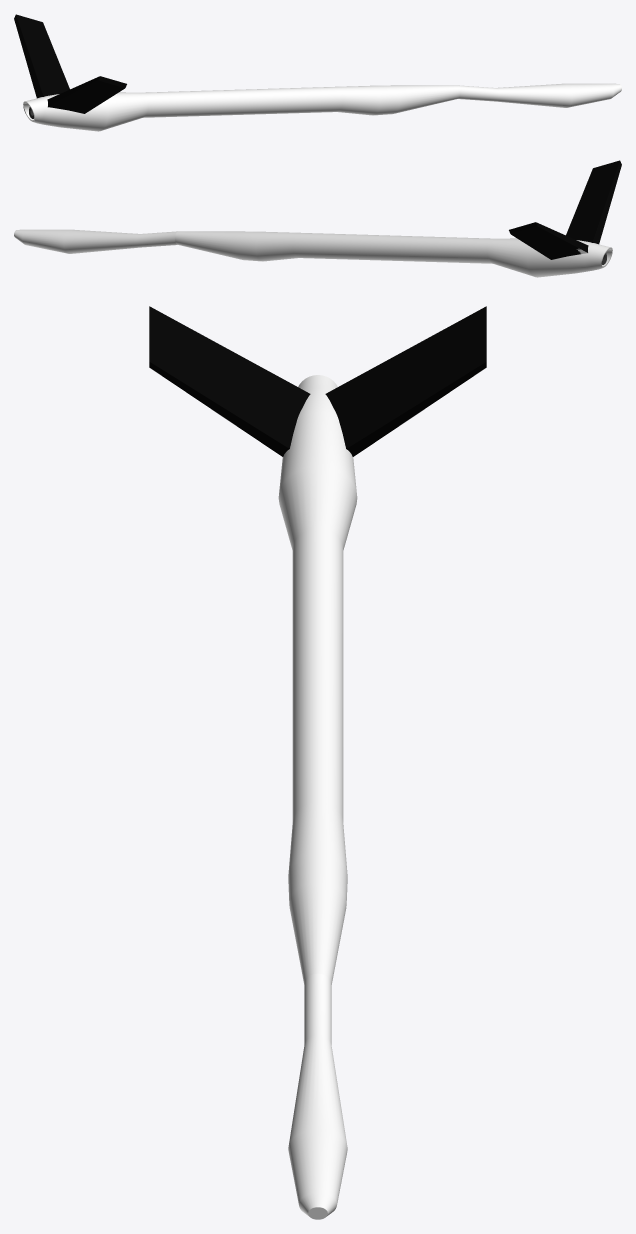
3 renders of one model, top to bottom at view 1: azimuth 30°, elevation 25°; view 2: azimuth 150°, elevation 25°; view 3: azimuth 270°, elevation 25°, orthographic. The views are drawn at different scales.
Visible parts, largest first — view 1: boom, boom.001; view 2: boom, boom.001; view 3: boom, boom.001.
Boxes of the visible parts, left/top/right/bottom form: boom: left=14, top=14, right=460, bottom=131; boom.001: left=458, top=83, right=621, bottom=107; boom: left=175, top=160, right=621, bottom=277; boom.001: left=14, top=229, right=177, bottom=253; boom: left=149, top=306, right=486, bottom=984; boom.001: left=288, top=973, right=347, bottom=1219.
Size of the model in its own units: 13.09 by 3.95 by 3.22.
4 materials, 1 textured.
